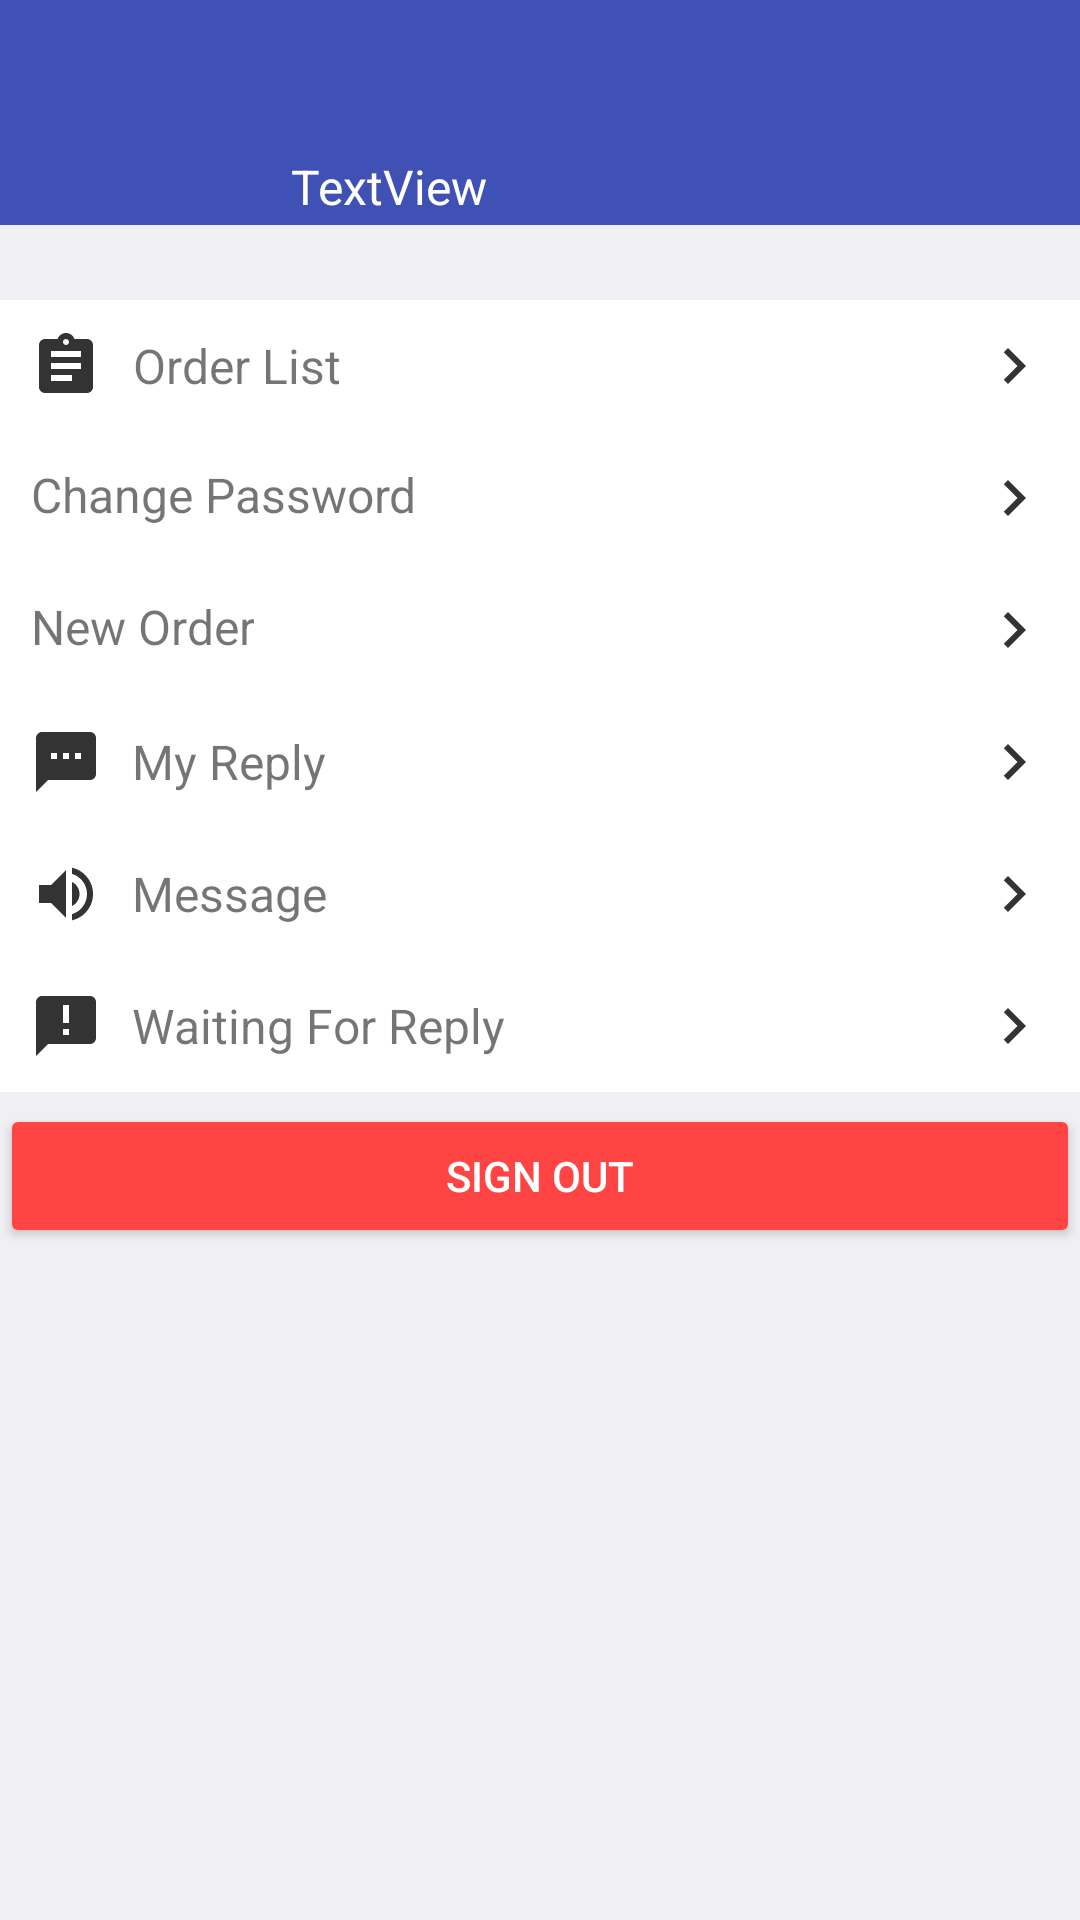

Icons on this 1080w x 1920h Android screen, each with the point to tap as point (x, y):
chevron right: point (1015, 366), point (1015, 498), point (1015, 630), point (1015, 762), point (1015, 894), point (1015, 1026)
